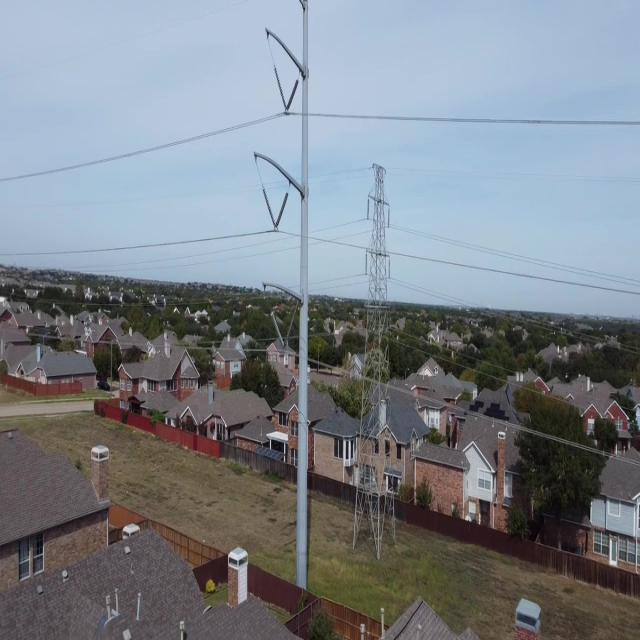杆塔: (344, 154, 400, 565)
正常绝缘子: (266, 53, 292, 120), (254, 175, 281, 238), (270, 182, 294, 243), (278, 69, 304, 124), (384, 202, 393, 231), (366, 193, 372, 226), (363, 245, 369, 278), (386, 254, 393, 282)
